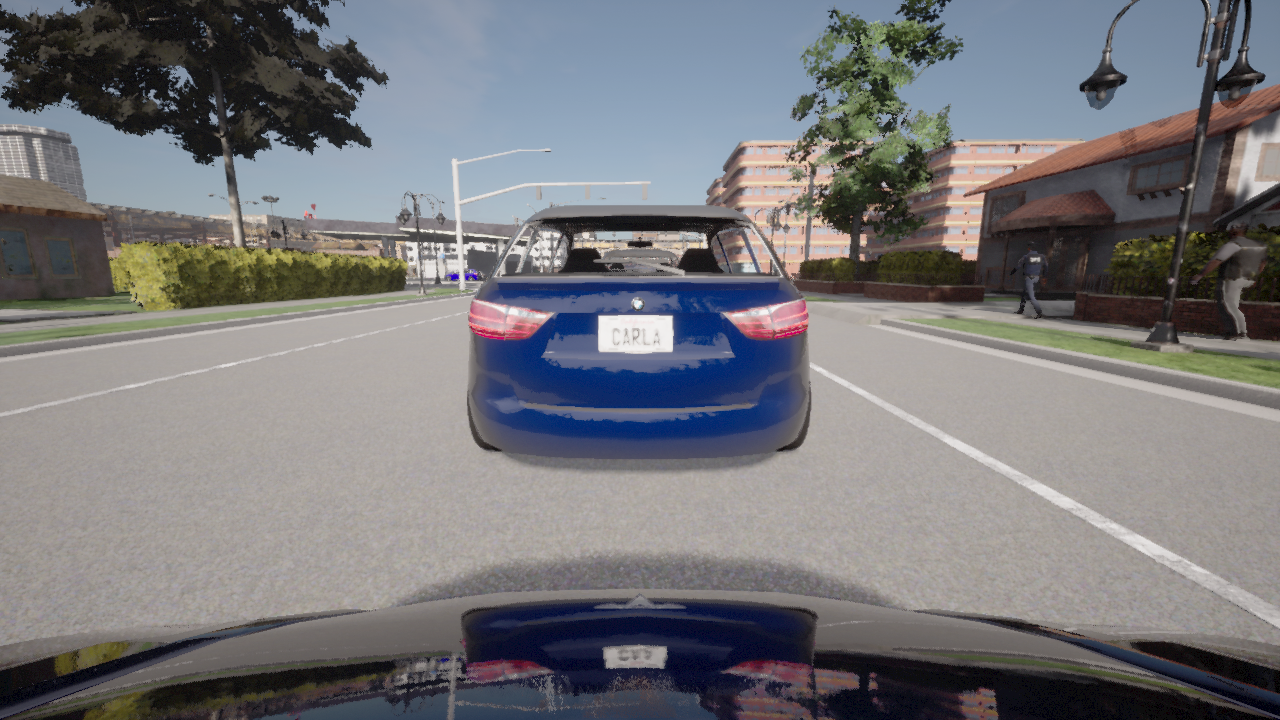cyclist: (0, 588, 1279, 719), (467, 205, 810, 459), (444, 269, 481, 280), (479, 271, 486, 280)
pedestrian: (1189, 222, 1267, 340), (1006, 242, 1048, 319)
